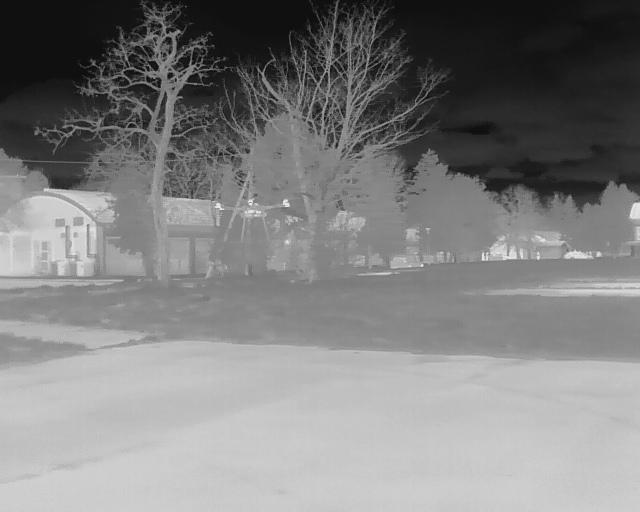drone: (201, 196, 297, 244)
